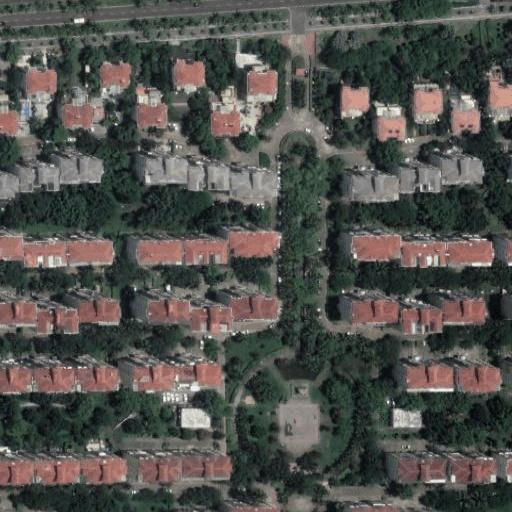building: (210, 85, 241, 138), (135, 83, 169, 129), (344, 169, 396, 196), (397, 360, 448, 387), (341, 228, 391, 253), (218, 163, 266, 189), (480, 75, 512, 114), (173, 299, 216, 328), (221, 221, 271, 245), (170, 449, 218, 474), (385, 452, 433, 477), (435, 234, 483, 259), (121, 357, 166, 383), (413, 84, 442, 124), (450, 95, 479, 135), (435, 154, 479, 180), (177, 156, 219, 183), (24, 452, 71, 476), (60, 235, 105, 260), (15, 238, 60, 263), (164, 355, 207, 381), (246, 65, 277, 101), (339, 294, 385, 318), (390, 236, 436, 260), (129, 235, 173, 260), (215, 291, 259, 316), (401, 300, 443, 326), (173, 235, 216, 260), (132, 293, 173, 319), (444, 453, 490, 476), (134, 150, 178, 174), (61, 360, 105, 384), (27, 302, 66, 329), (174, 58, 204, 93), (64, 94, 93, 130), (377, 106, 406, 142), (127, 451, 170, 475), (71, 451, 113, 475), (42, 148, 82, 173), (26, 67, 57, 99), (451, 360, 492, 384), (395, 164, 436, 188), (441, 292, 484, 314), (66, 296, 107, 319), (101, 62, 130, 93), (22, 361, 61, 384), (342, 87, 370, 117), (489, 228, 512, 258), (392, 408, 421, 425), (182, 410, 210, 427), (0, 95, 14, 129), (220, 502, 266, 512), (342, 503, 393, 512), (497, 287, 512, 316), (497, 148, 512, 177), (399, 509, 440, 512)
